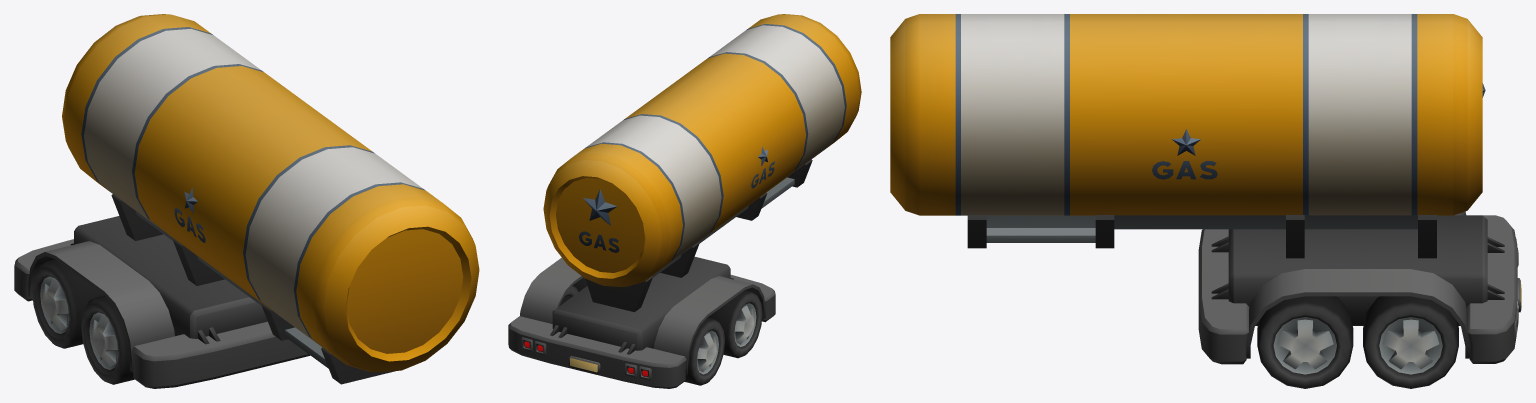
Rendered from tp_cistern_01a.glb.
3 renders of one model, left to right at view 1: azimuth 30°, elevation 25°; view 2: azimuth 150°, elevation 25°; view 3: azimuth 270°, elevation 25°, orthographic. The views are drawn at different scales.
Visible parts, largest first — view 1: TP_Cistern_01A_Body, TP_Cistern_01A_Wheel_R.R, TP_Cistern_01A_Wheel_F.R; view 2: TP_Cistern_01A_Body, TP_Cistern_01A_Wheel_F.R, TP_Cistern_01A_Wheel_R.R; view 3: TP_Cistern_01A_Body, TP_Cistern_01A_Wheel_F.L, TP_Cistern_01A_Wheel_R.L.
Boxes of the visible parts, <box> form: TP_Cistern_01A_Body: <box>14,14,479,388</box>; TP_Cistern_01A_Wheel_R.R: <box>32,259,103,348</box>; TP_Cistern_01A_Wheel_F.R: <box>81,295,134,384</box>; TP_Cistern_01A_Body: <box>508,14,861,388</box>; TP_Cistern_01A_Wheel_F.R: <box>707,290,762,358</box>; TP_Cistern_01A_Wheel_R.R: <box>684,317,724,385</box>; TP_Cistern_01A_Body: <box>890,14,1521,364</box>; TP_Cistern_01A_Wheel_F.L: <box>1257,296,1353,388</box>; TP_Cistern_01A_Wheel_R.L: <box>1363,296,1458,388</box>.
Bounding box in the file's own units: 3.25 × 3.87 × 7.17.
Materials: 2 (2 with a texture image).
